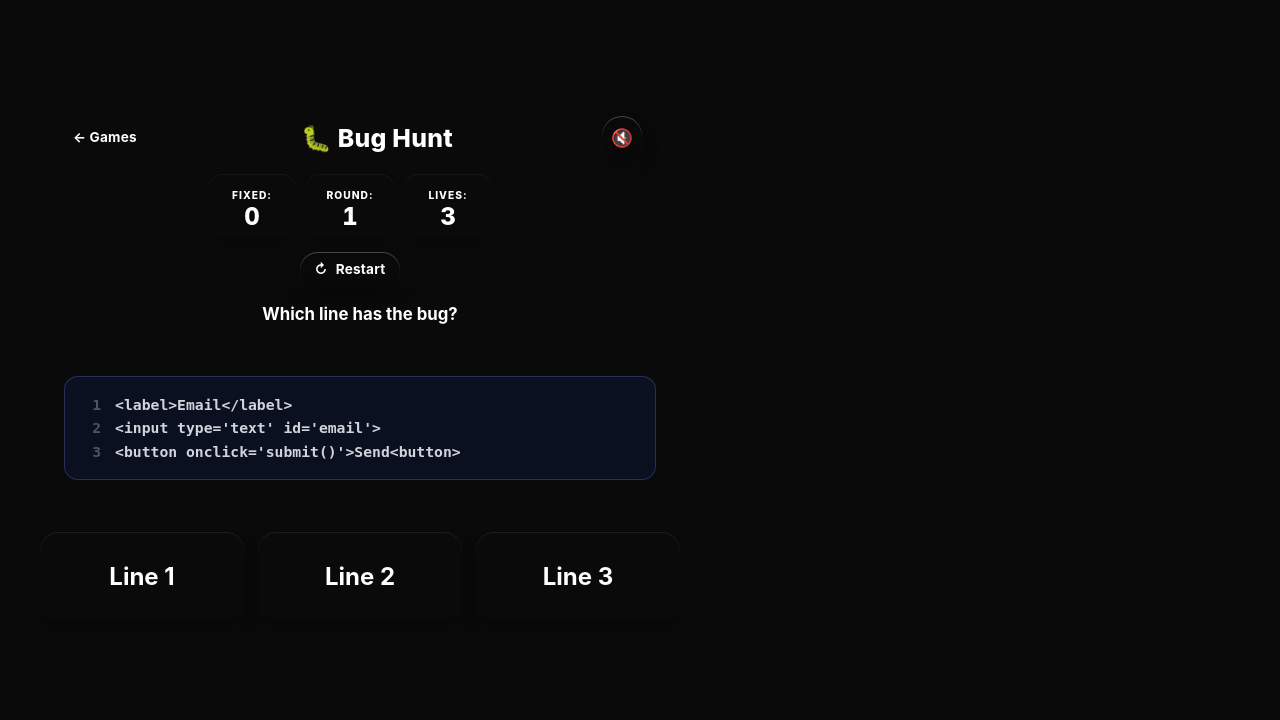
BugHuntGame — review flow › shows the bug/fix review panel after an answer and waits for Next Bug
The image size is (1280, 720).
What coordinates should you click on to do the following:
click the button "Line 1"
I would click on:
 (142, 576)
Its box is [40, 532, 244, 620].
(page scrolled)
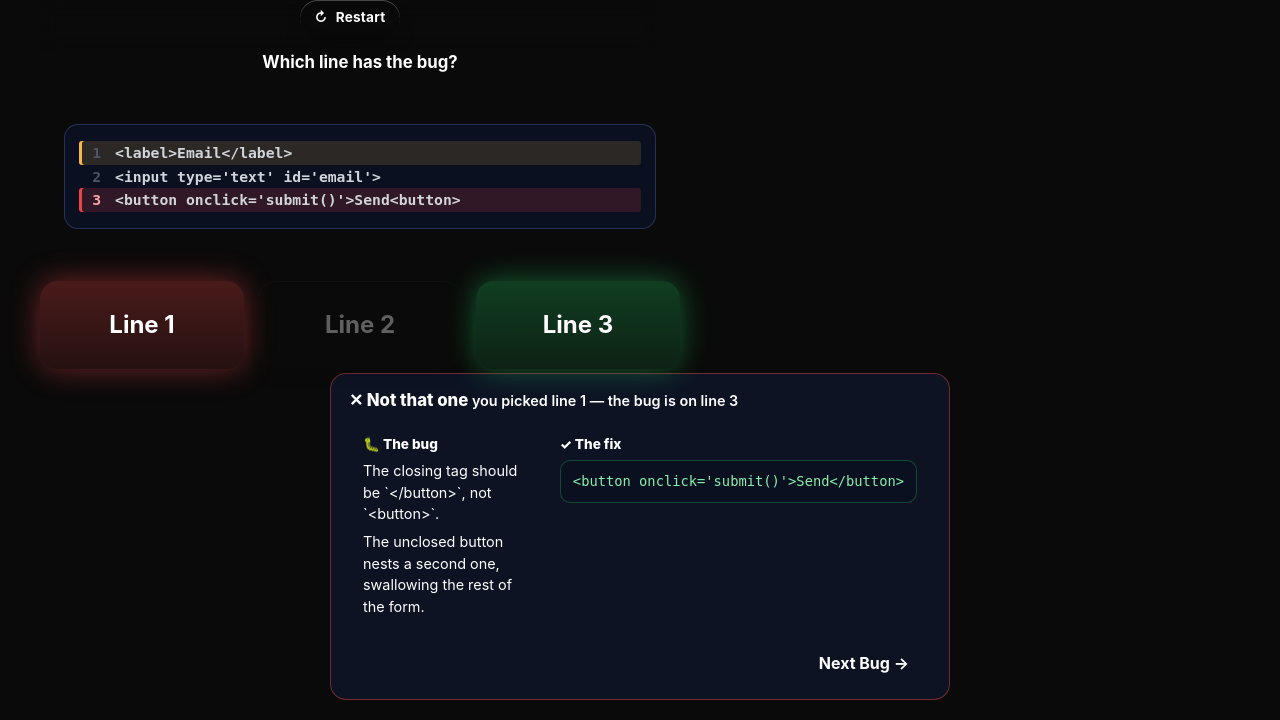
Expected: the text "🐛 The bug" is shown, [363, 436, 438, 452]
Expected: the text "✓ The fix" is shown, [560, 436, 622, 452]
Expected: the button "Next Bug →" is shown, [797, 644, 931, 684]
